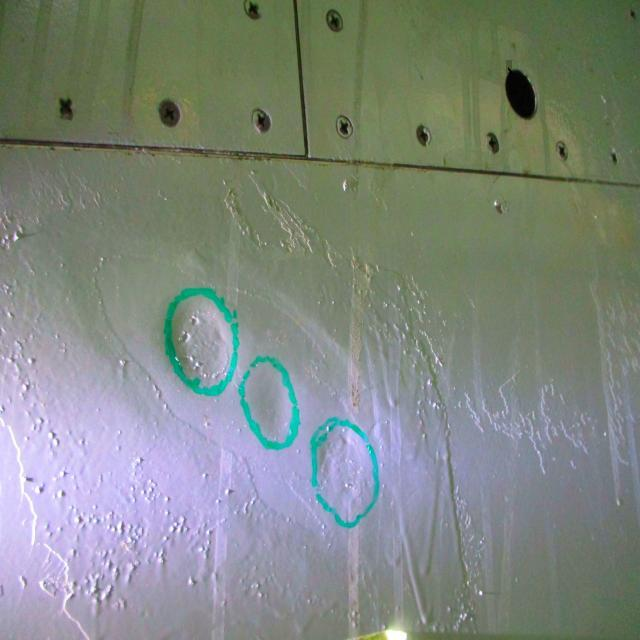crack: (507, 61, 513, 75)
